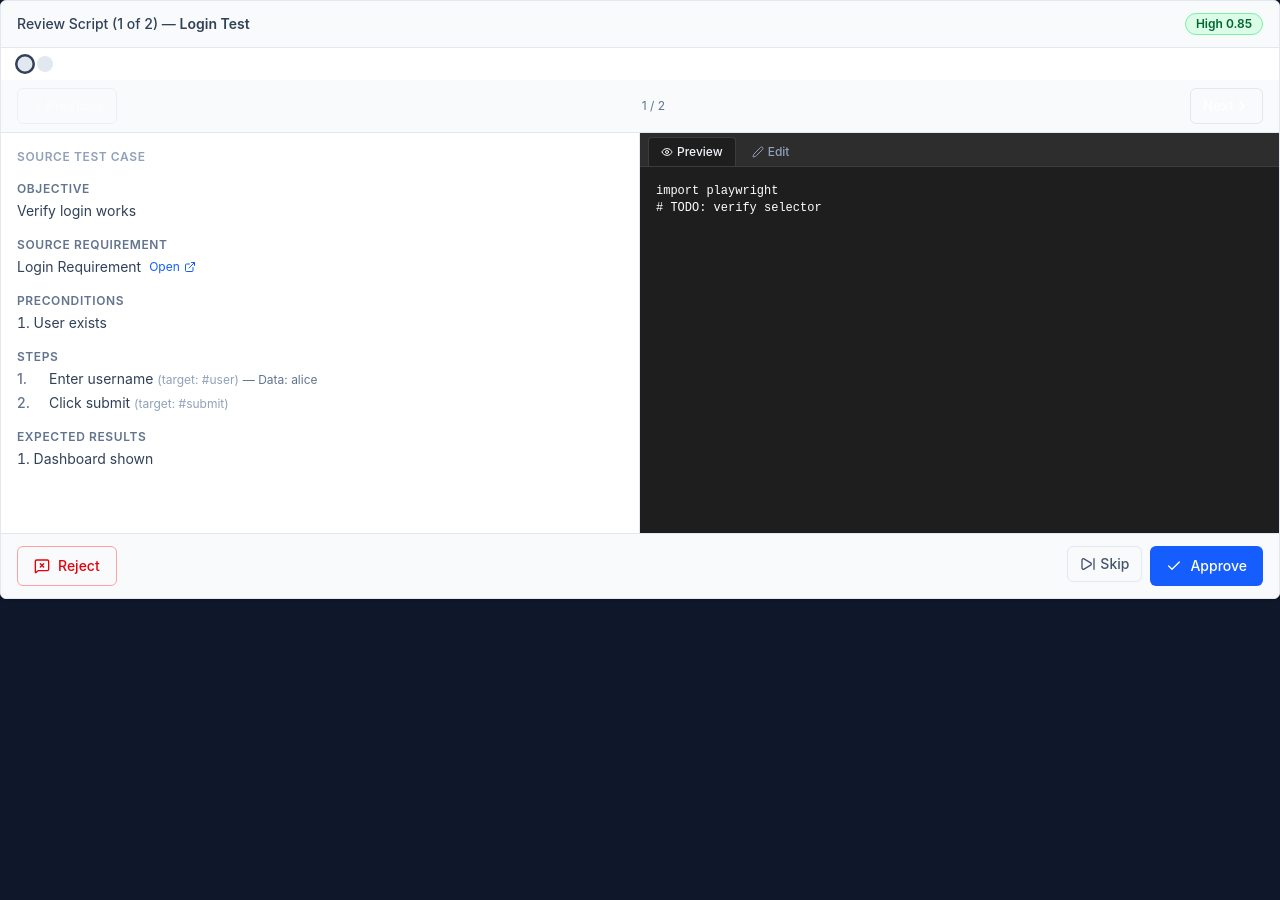
Test: SarahScriptReviewPanel › Approve / Skip / Reject callbacks › preserves reject feedback when navigating to another script and back
// Navigate to Reject input on first script
Click the button "Reject": (67, 566) [17, 546, 117, 586]
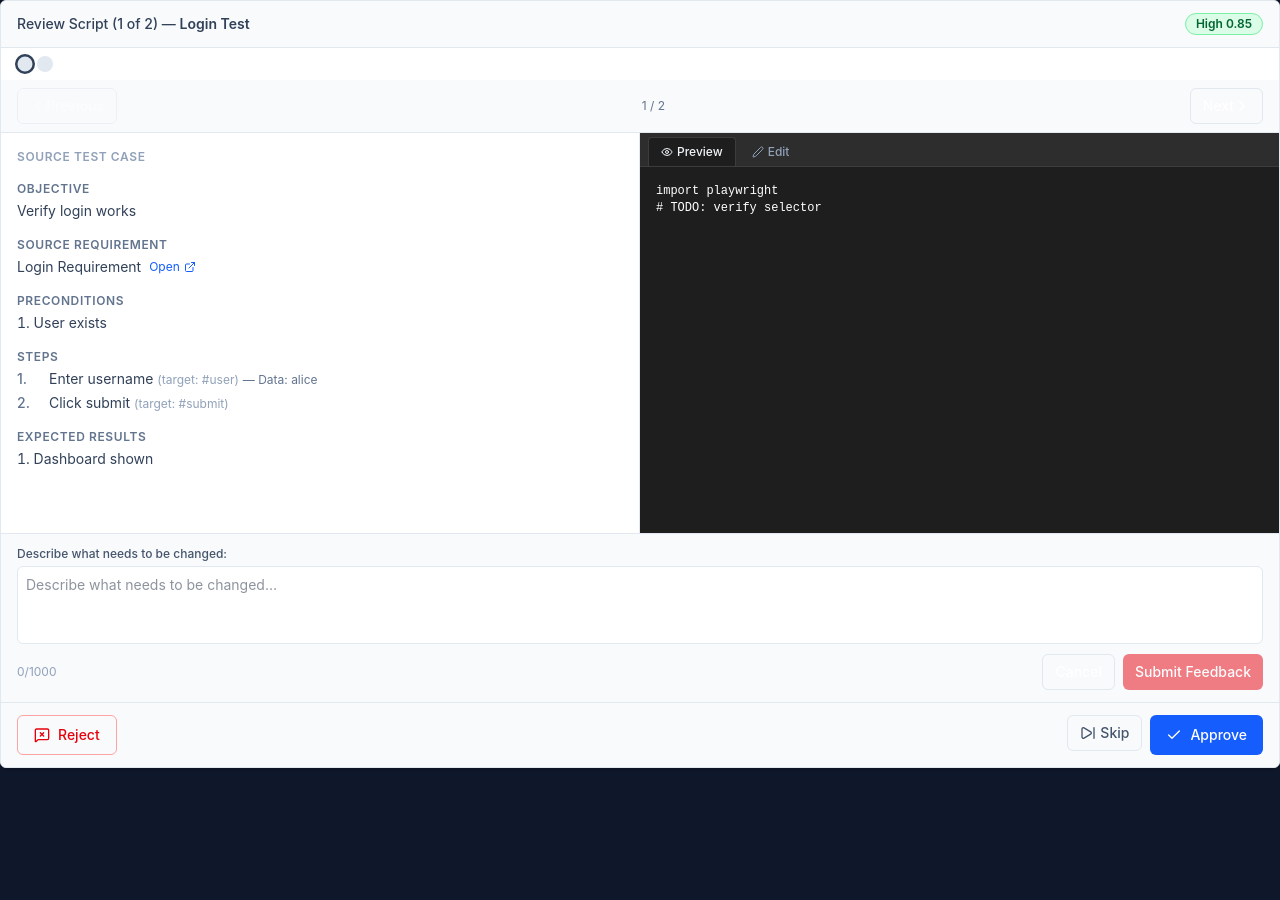
In the text box with placeholder "Describe what needs to be changed…": (640, 605) [17, 566, 1263, 644], type "Feedback for First Script"
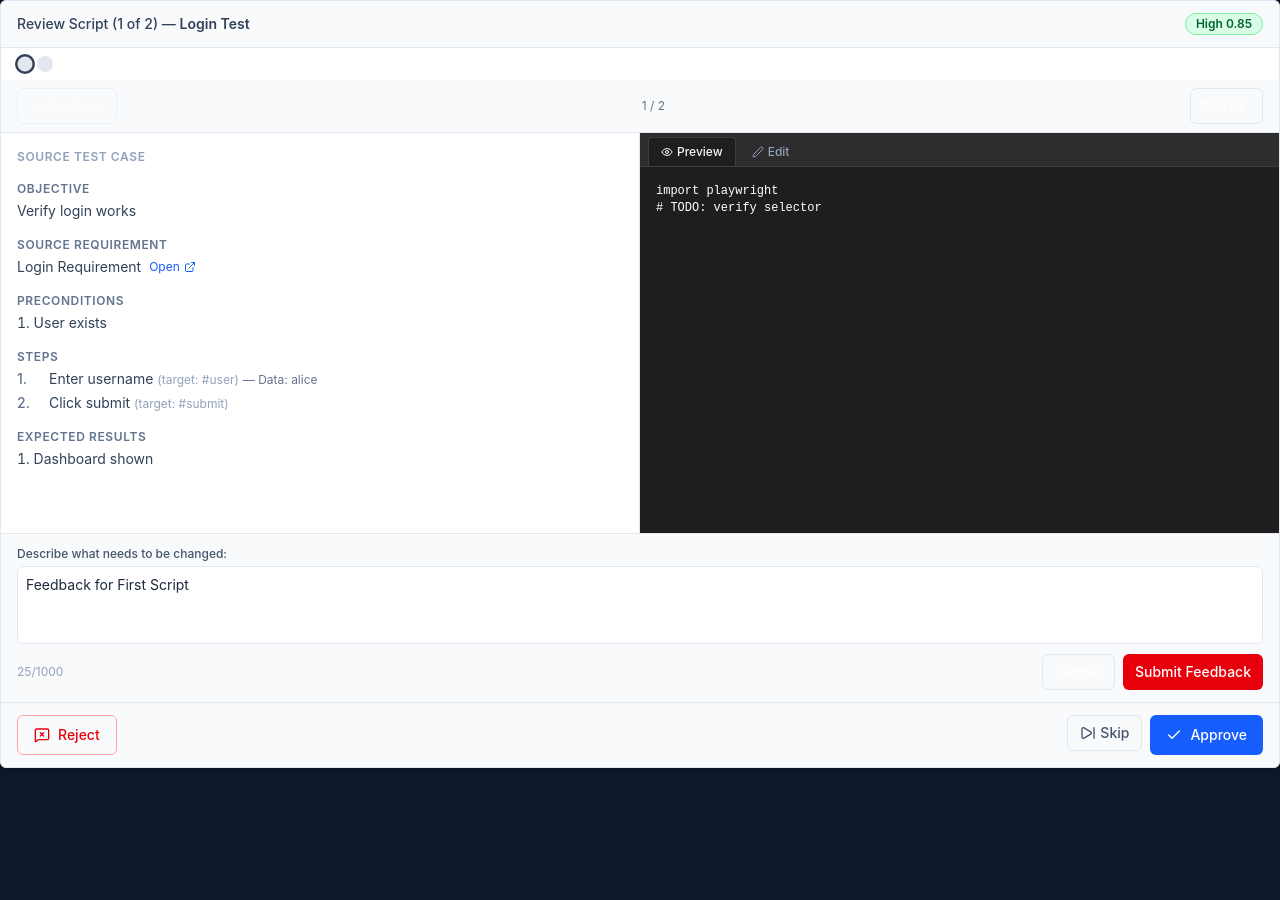
// Navigate to second script
Click the button with aria-label "Next script": (1226, 106) [1190, 88, 1263, 124]
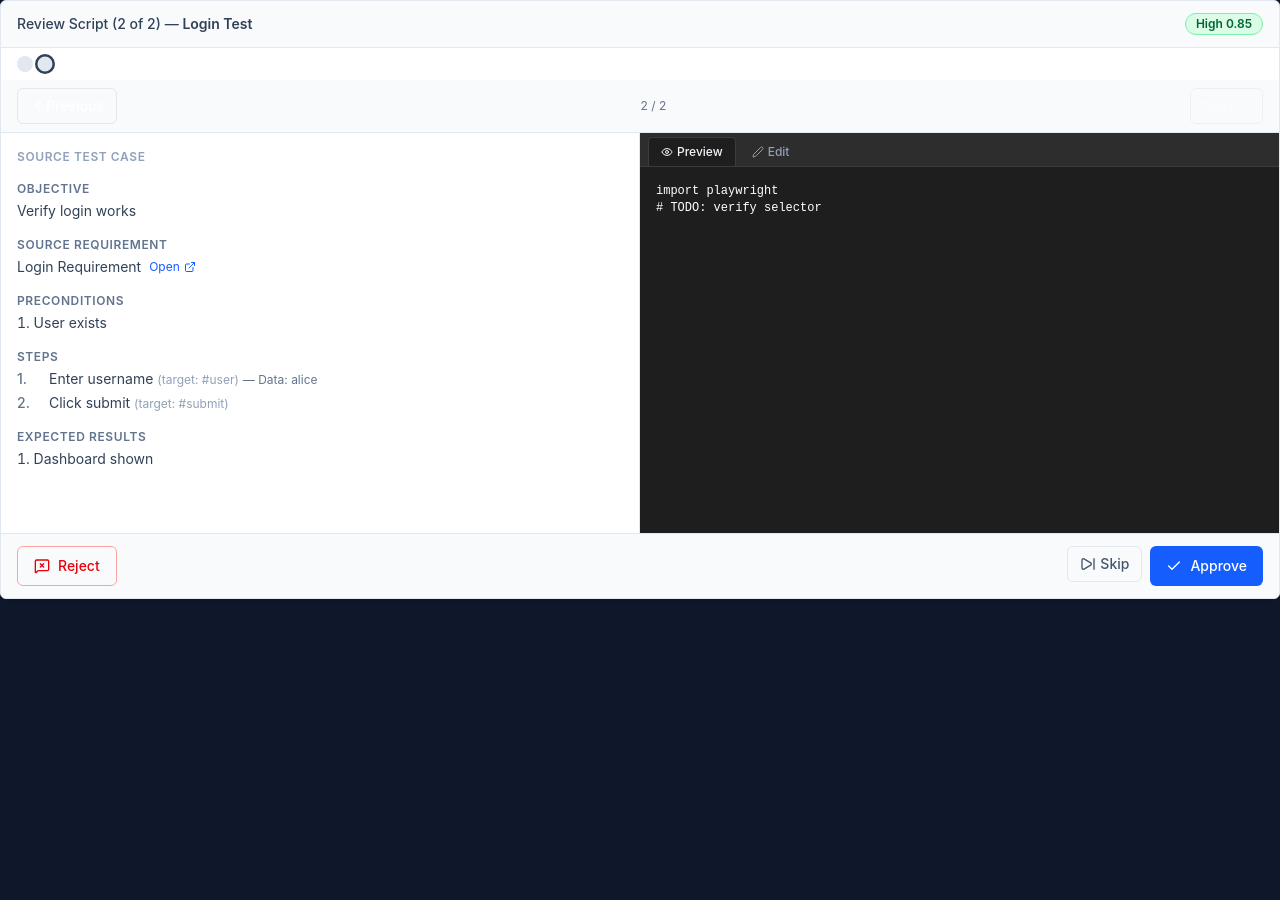
Now the text with placeholder "Describe what needs to be changed" is gone
// Navigate back to first script
Click the button with aria-label "Previous script": (67, 106) [17, 88, 117, 124]
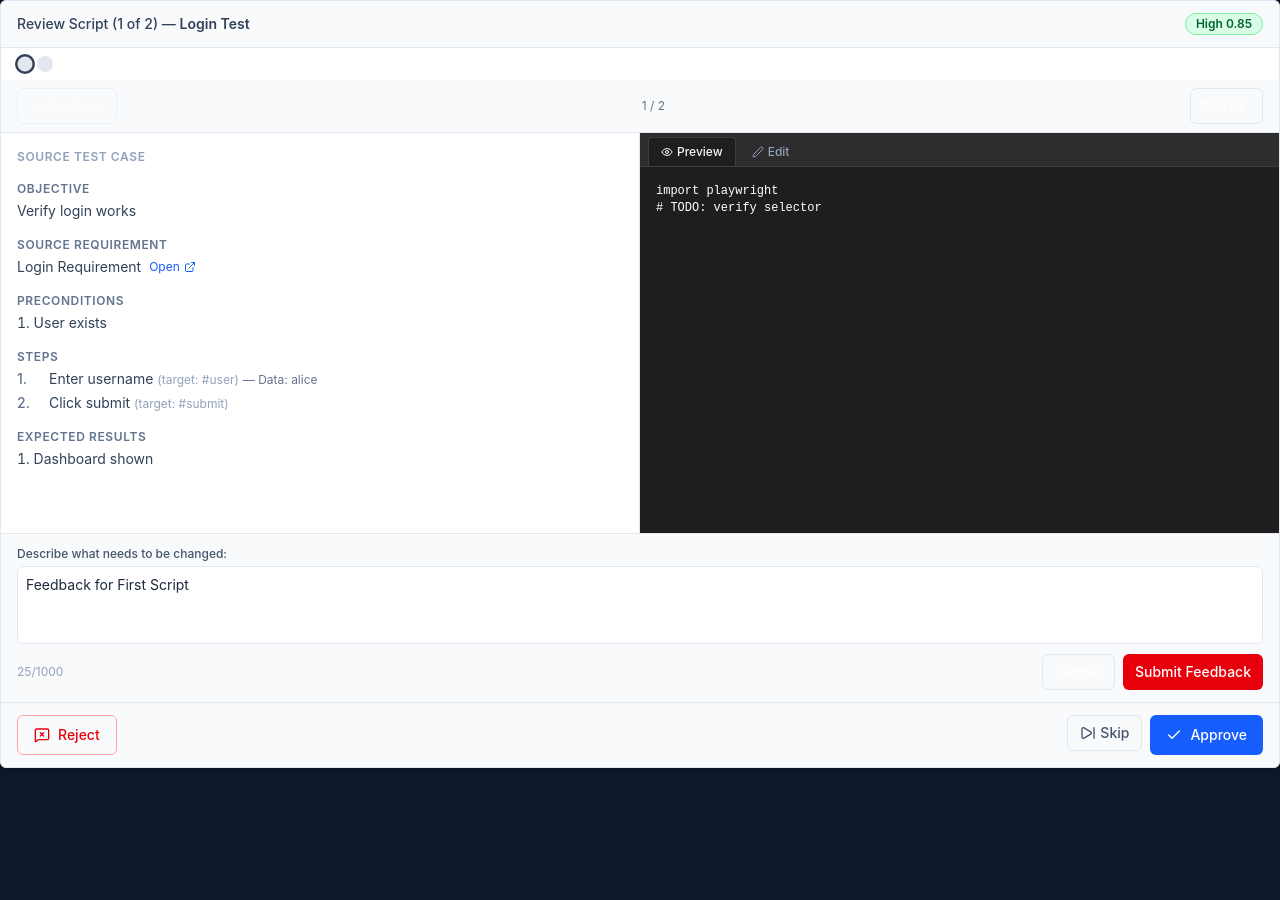
Now the text box with placeholder "Describe what needs to be changed…" holds "Feedback for First Script", box [17, 566, 1263, 644]
